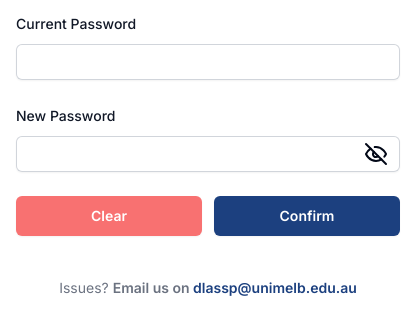
it: ChangePasswordForm component › clears new password field on Clear button click
Type "newpassword" into the password field labelled "New Password". click: {"x": 208, "y": 154}
box: [16,136,400,172]
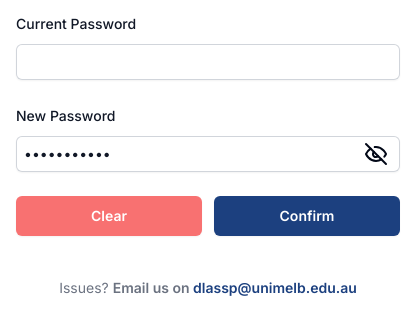
Click the button "Clear". click: {"x": 109, "y": 216}
box: [16,196,202,236]
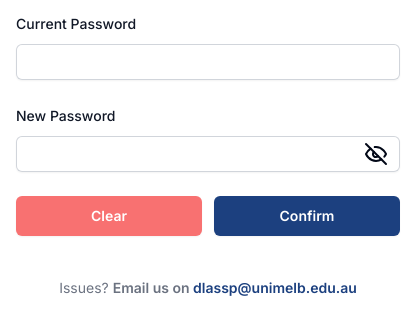
Now the password field labelled "New Password" is empty, box [16,136,400,172]
